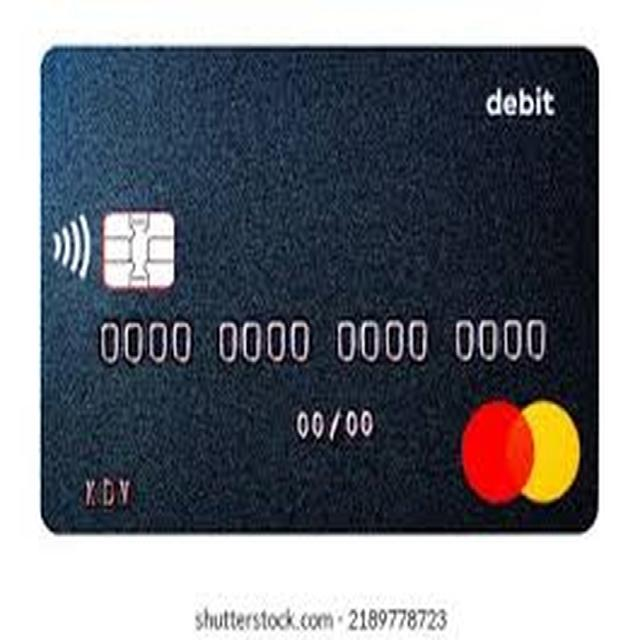card: (27, 45, 614, 552)
